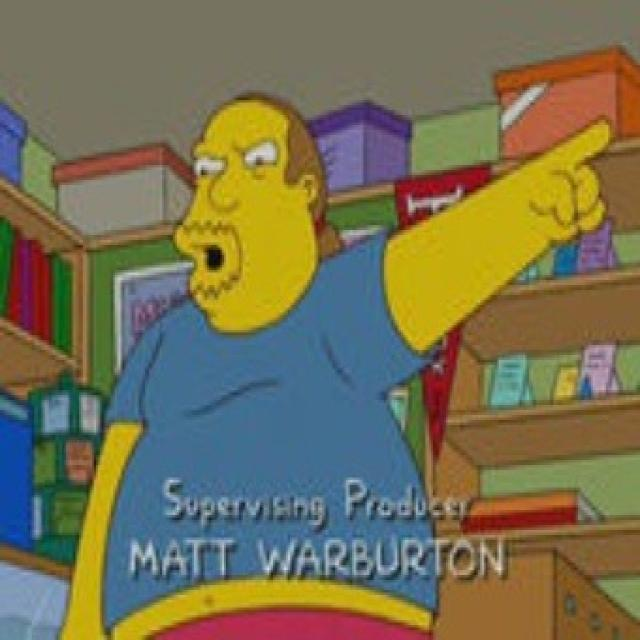Comic Book Guy: (170, 96, 334, 339)
